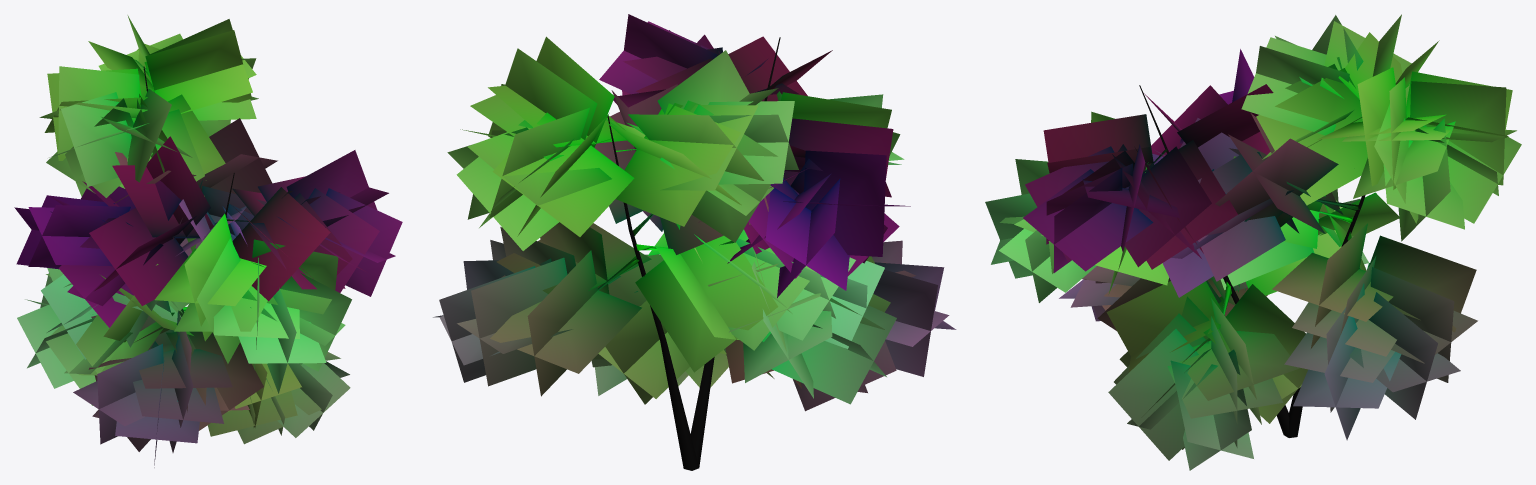
File: URP_P14_Tree_6_LOD_3.fbx
3 renders of one model, left to right at view 1: azimuth 30°, elevation 25°; view 2: azimuth 150°, elevation 25°; view 3: azimuth 270°, elevation 25°, orthographic. The views are drawn at different scales.
Parts seen in each view (by area): view 1: Tree_6_LOD_3; view 2: Tree_6_LOD_3; view 3: Tree_6_LOD_3.
Boxes of the visible parts, x1=… form: Tree_6_LOD_3: x1=14, y1=15, x2=402, y2=467; Tree_6_LOD_3: x1=433, y1=14, x2=956, y2=470; Tree_6_LOD_3: x1=985, y1=14, x2=1521, y2=470.
Size of the model in its own units: 399 by 414 by 503.
